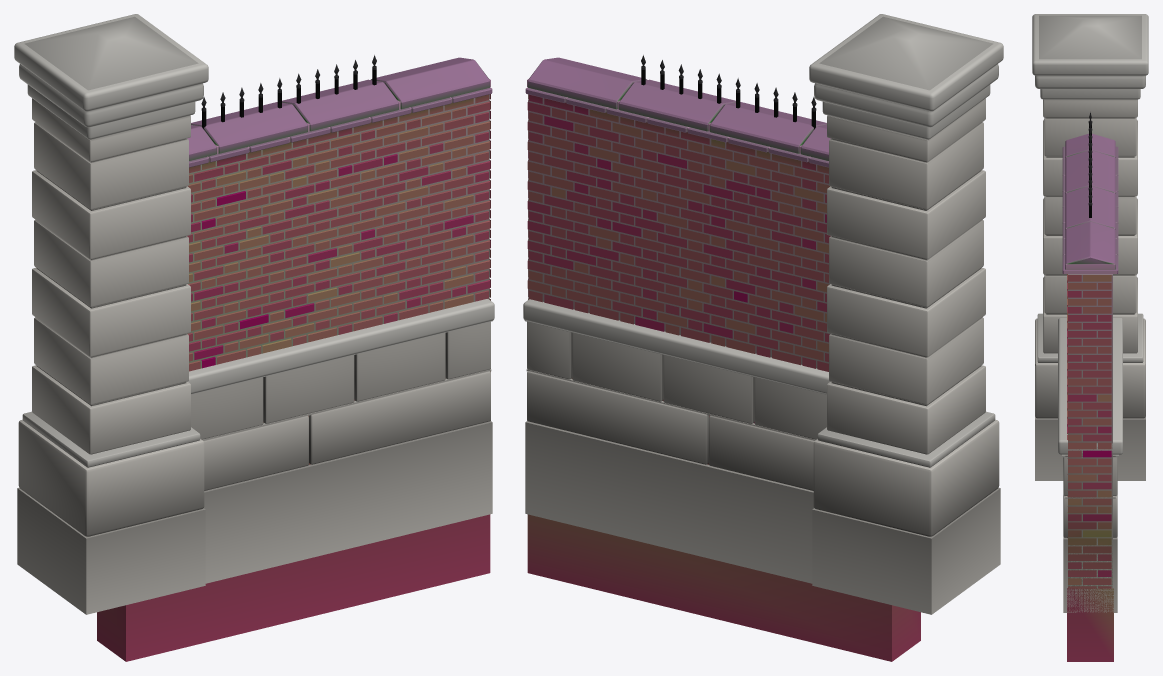
File: parkfence.glb
3 renders of one model, left to right at view 1: azimuth 30°, elevation 25°; view 2: azimuth 150°, elevation 25°; view 3: azimuth 270°, elevation 25°, orthographic. The views are drawn at different scales.
Parts seen in each view (by area): view 1: pf_brick_lod0, pf_pier_lod0, pf_plinth_lod0, pf_gate2_lod0; view 2: pf_brick_lod0, pf_pier_lod0, pf_plinth_lod0, pf_gate2_lod0; view 3: pf_pier_lod0, pf_brick_lod0, pf_plinth_lod0, pf_gate2_lod0.
Boxes of the visible parts, x1,y1,x2,y2 form: pf_brick_lod0: (97,57,492,661); pf_pier_lod0: (14,14,208,614); pf_plinth_lod0: (187,299,494,583); pf_gate2_lod0: (201,55,376,129); pf_brick_lod0: (525,57,920,661); pf_pier_lod0: (809,14,1003,614); pf_plinth_lod0: (523,299,830,583); pf_gate2_lod0: (641,55,816,129); pf_pier_lod0: (1032,14,1148,480); pf_brick_lod0: (1062,133,1118,661); pf_plinth_lod0: (1058,318,1122,612); pf_gate2_lod0: (1088,112,1092,217).
Size of what is drawn, in the model's own units: 2.94 by 4.04 by 0.86.
